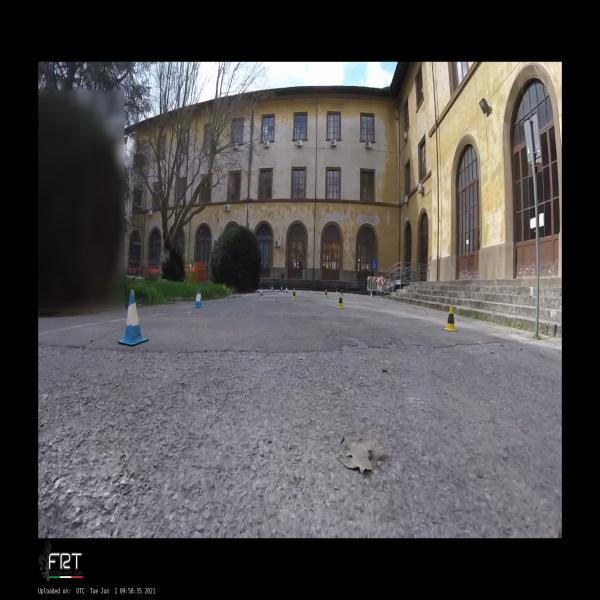blue_cone: (117, 289, 149, 347), (193, 288, 204, 308), (260, 288, 264, 296), (285, 286, 288, 293), (280, 286, 283, 292), (271, 286, 273, 292)
yellow_cone: (442, 305, 458, 332), (336, 293, 345, 309), (291, 288, 297, 300), (324, 289, 328, 299), (341, 289, 345, 297), (336, 288, 339, 293)
